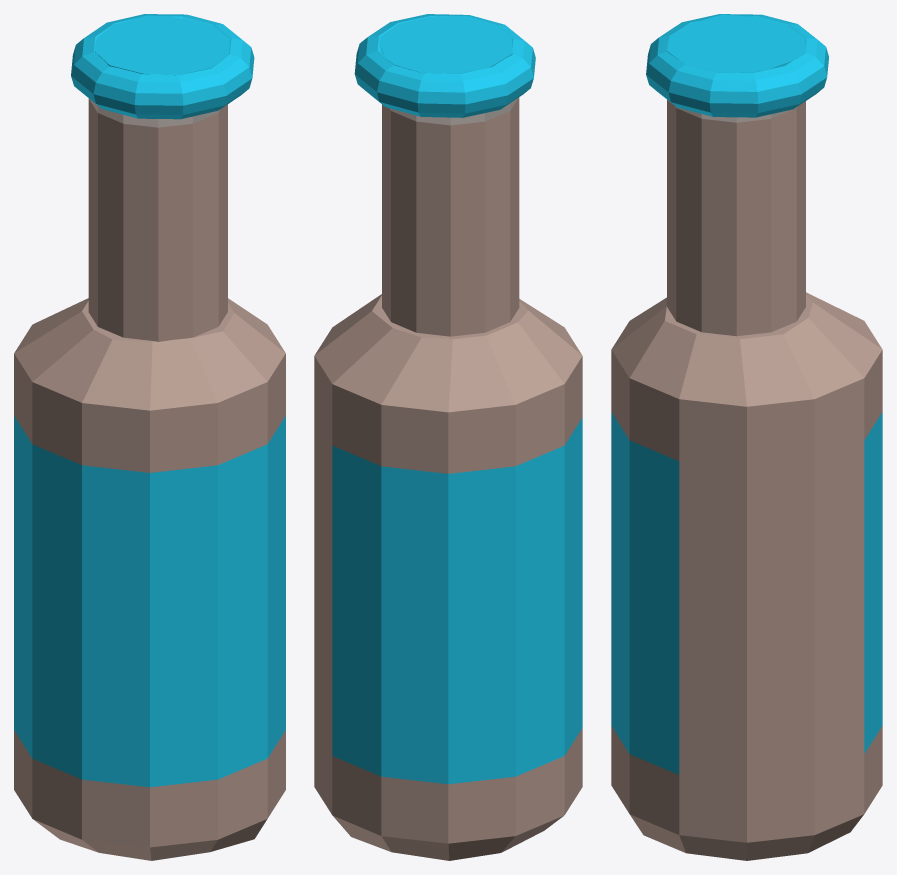
Rendered from Bottle.fbx.
3 renders of one model, left to right at view 1: azimuth 30°, elevation 25°; view 2: azimuth 150°, elevation 25°; view 3: azimuth 270°, elevation 25°, orthographic.
Visible parts, largest first — view 1: mesh_1916400688, mesh_1223404840, mesh_899923403, mesh_1475278240; view 2: mesh_1916400688, mesh_1223404840, mesh_899923403, mesh_1475278240; view 3: mesh_1916400688, mesh_1223404840, mesh_899923403, mesh_1475278240.
Boxes of the visible parts, x1=… form: mesh_1916400688: x1=14, y1=298, x2=285, y2=860; mesh_1223404840: x1=88, y1=98, x2=227, y2=341; mesh_899923403: x1=71, y1=14, x2=254, y2=119; mesh_1475278240: x1=94, y1=15, x2=229, y2=75; mesh_1916400688: x1=314, y1=294, x2=582, y2=860; mesh_1223404840: x1=382, y1=97, x2=519, y2=336; mesh_899923403: x1=354, y1=14, x2=535, y2=117; mesh_1475278240: x1=379, y1=16, x2=512, y2=73; mesh_1916400688: x1=611, y1=292, x2=882, y2=860; mesh_1223404840: x1=667, y1=100, x2=805, y2=336; mesh_899923403: x1=646, y1=14, x2=828, y2=117; mesh_1475278240: x1=667, y1=14, x2=807, y2=72.
Bounding box in the file's own units: 0.39 × 1.22 × 0.39.
